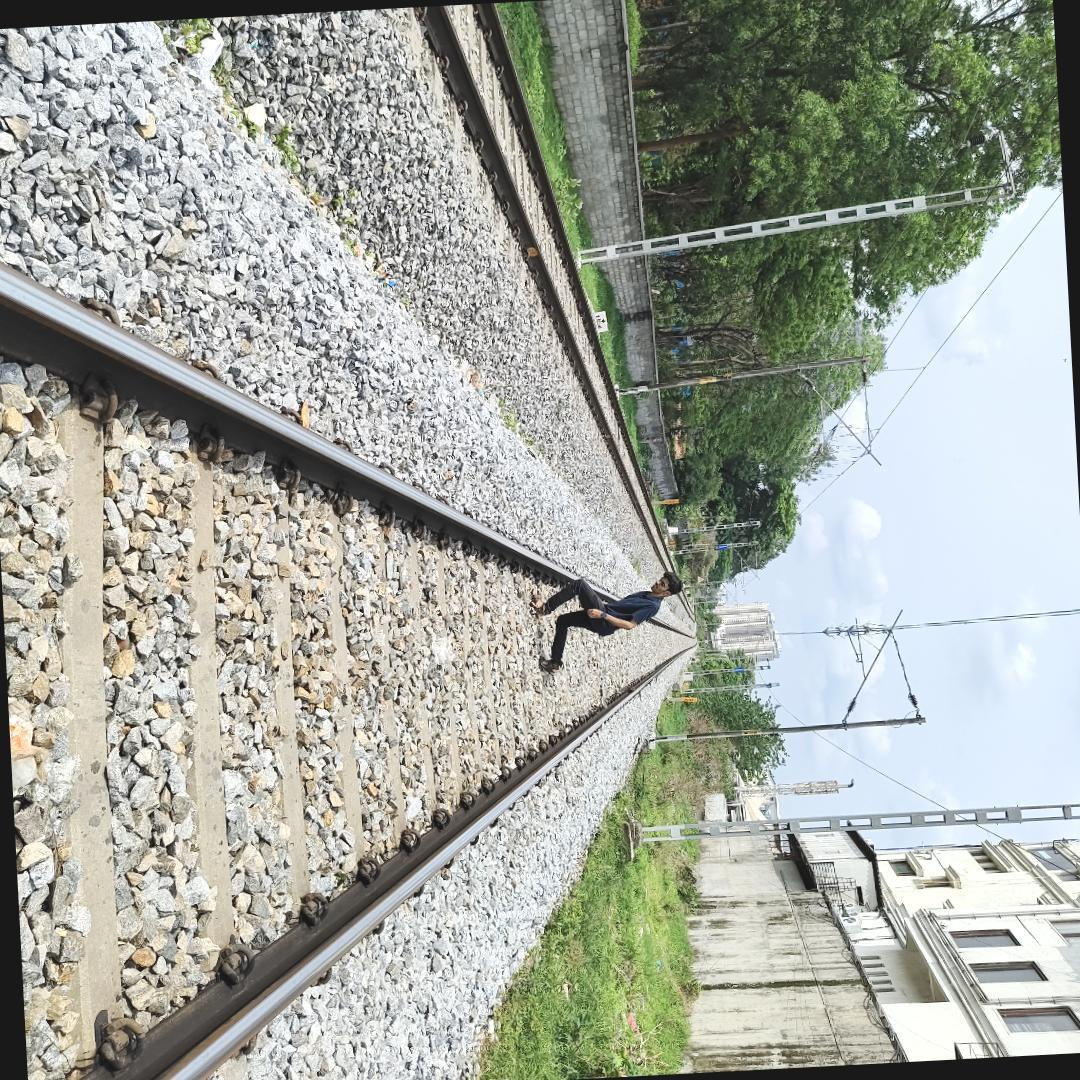standing: (527, 563, 698, 698)
track: (0, 240, 699, 1080)
